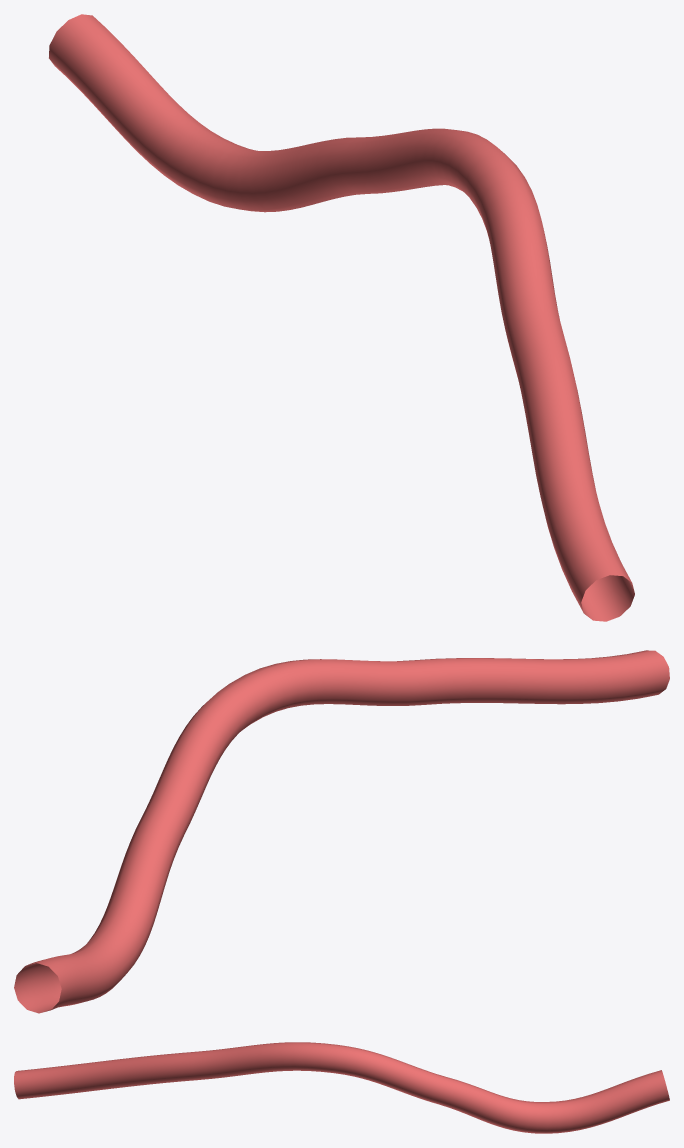
Rendered from Medial_plantar_artery.l_BezierCurve.347.glb.
The picture shows the model from 3 angles, top to bottom: view 1: azimuth 30°, elevation 25°; view 2: azimuth 150°, elevation 25°; view 3: azimuth 270°, elevation 25°; orthographic projection. The views are drawn at different scales.
Parts seen in each view (by area): view 1: Medial_plantar_artery.l_BezierCurve.347; view 2: Medial_plantar_artery.l_BezierCurve.347; view 3: Medial_plantar_artery.l_BezierCurve.347.
Boxes of the visible parts, left/top/right/bottom form: Medial_plantar_artery.l_BezierCurve.347: left=49, top=14, right=634, bottom=621; Medial_plantar_artery.l_BezierCurve.347: left=14, top=650, right=669, bottom=1013; Medial_plantar_artery.l_BezierCurve.347: left=14, top=1042, right=669, bottom=1133.
Bounding box in the file's own units: 0.00894 × 0.0069 × 0.0412.
